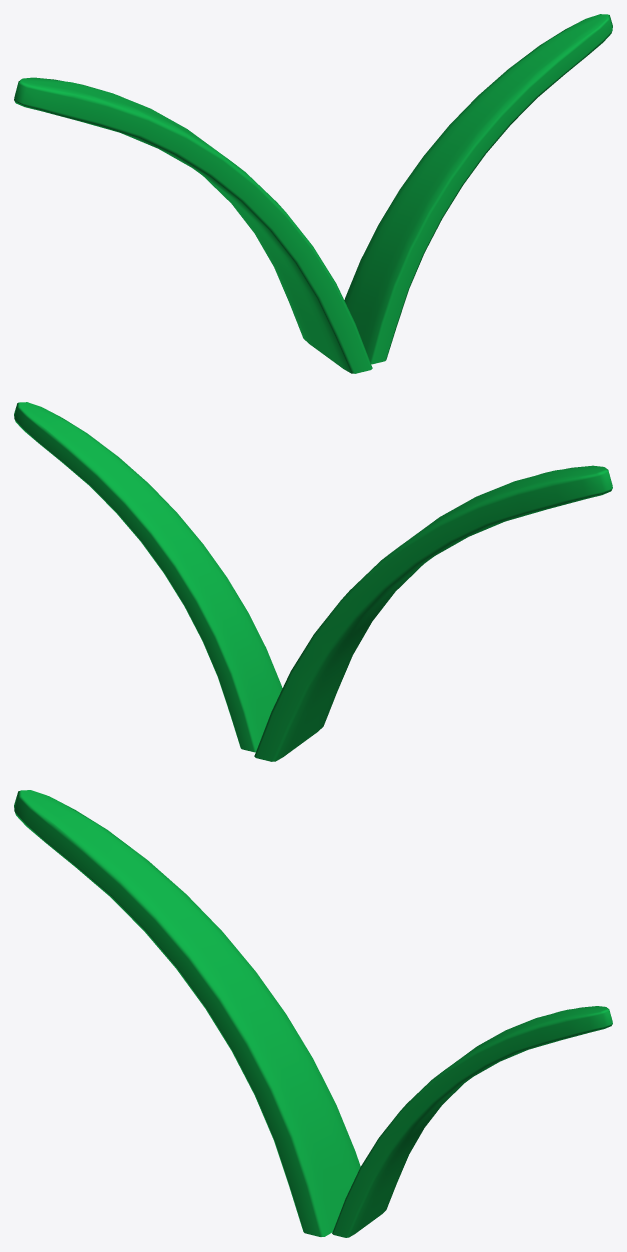
File: Town_20_Grass_3.glb
3 views of the same model, one above another, from view 1: azimuth 30°, elevation 25°; view 2: azimuth 150°, elevation 25°; view 3: azimuth 330°, elevation 25° (orthographic).
Parts seen in each view (by area): view 1: Town_20_Grass_3; view 2: Town_20_Grass_3; view 3: Town_20_Grass_3.
Boxes of the visible parts, x1=… form: Town_20_Grass_3: x1=14, y1=14, x2=612, y2=373; Town_20_Grass_3: x1=14, y1=402, x2=612, y2=761; Town_20_Grass_3: x1=14, y1=790, x2=612, y2=1237.
Size of the model in its own units: 0.5228 by 0.2913 by 0.0764.
1 material, 1 textured.
